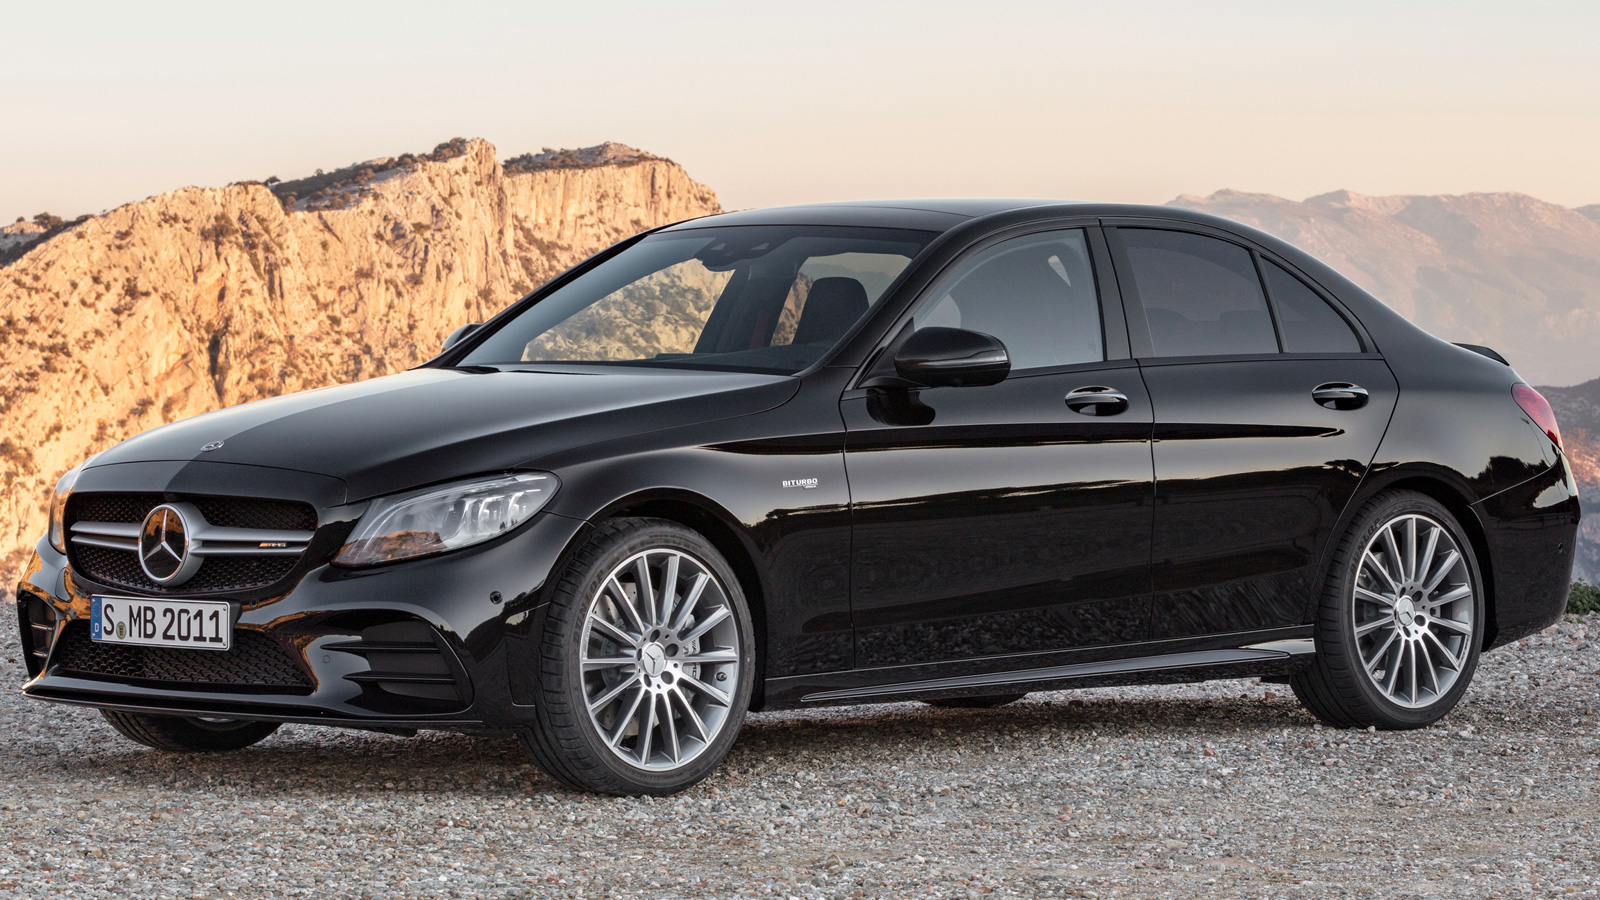cclass: (8, 186, 1592, 814)
